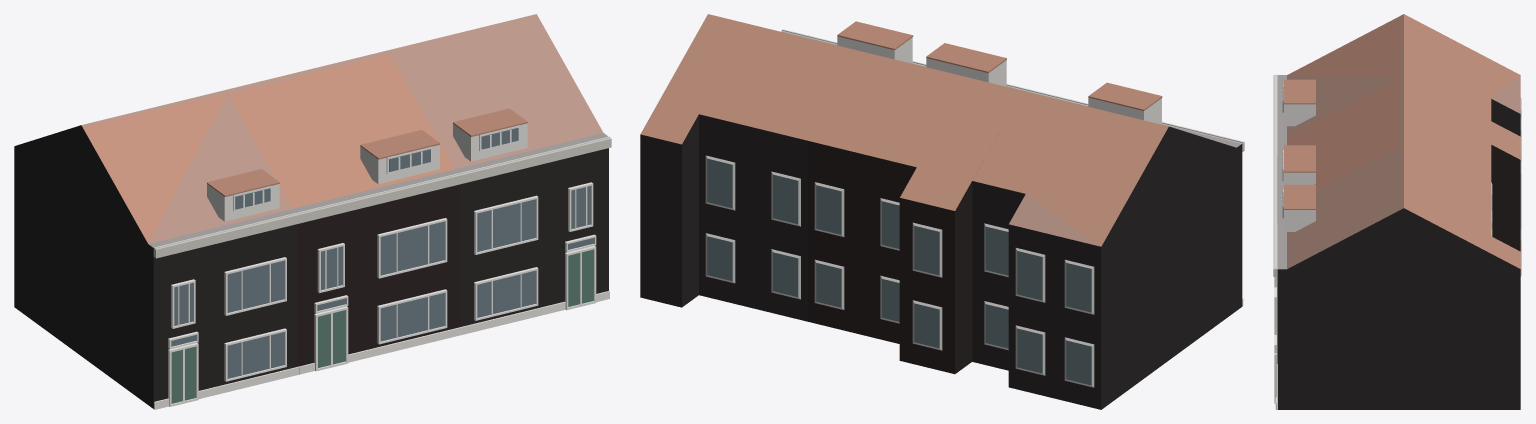
File: chunk-face-meeuwenplein-1-7-r1.glb
3 views of the same model, side by side, from view 1: azimuth 30°, elevation 25°; view 2: azimuth 150°, elevation 25°; view 3: azimuth 270°, elevation 25° (orthographic). The views are drawn at different scales.
Visible parts, largest first — view 1: face-meeuwenplein-1-7-r1; view 2: face-meeuwenplein-1-7-r1; view 3: face-meeuwenplein-1-7-r1.
Boxes of the visible parts, left/top/right/bottom form: face-meeuwenplein-1-7-r1: left=14, top=14, right=611, bottom=409; face-meeuwenplein-1-7-r1: left=640, top=14, right=1244, bottom=409; face-meeuwenplein-1-7-r1: left=1273, top=14, right=1521, bottom=409.
Size of the model in its own units: 19.13 by 9.28 by 10.35.
